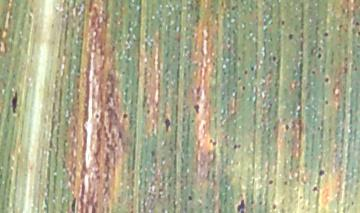tarspot: (10, 88, 19, 116), (236, 197, 247, 213), (164, 116, 171, 134), (341, 64, 350, 76), (208, 137, 218, 147), (232, 142, 242, 151), (195, 84, 202, 96), (317, 168, 326, 177), (287, 31, 295, 41), (193, 103, 200, 114), (322, 30, 330, 39), (312, 184, 319, 194), (284, 122, 290, 133), (231, 4, 239, 12), (336, 22, 344, 30), (122, 112, 129, 121), (186, 194, 193, 203), (323, 75, 330, 84), (195, 95, 202, 103), (271, 55, 278, 63), (279, 19, 287, 26), (310, 68, 318, 75), (267, 177, 273, 186), (323, 99, 330, 106), (349, 200, 356, 207), (241, 84, 247, 92), (271, 204, 278, 210), (249, 65, 255, 72), (316, 53, 322, 60), (343, 56, 350, 62), (146, 108, 152, 115), (150, 150, 156, 157), (281, 180, 289, 185), (243, 68, 248, 76), (317, 45, 322, 52), (355, 20, 360, 27), (237, 75, 242, 81), (357, 30, 360, 37)
